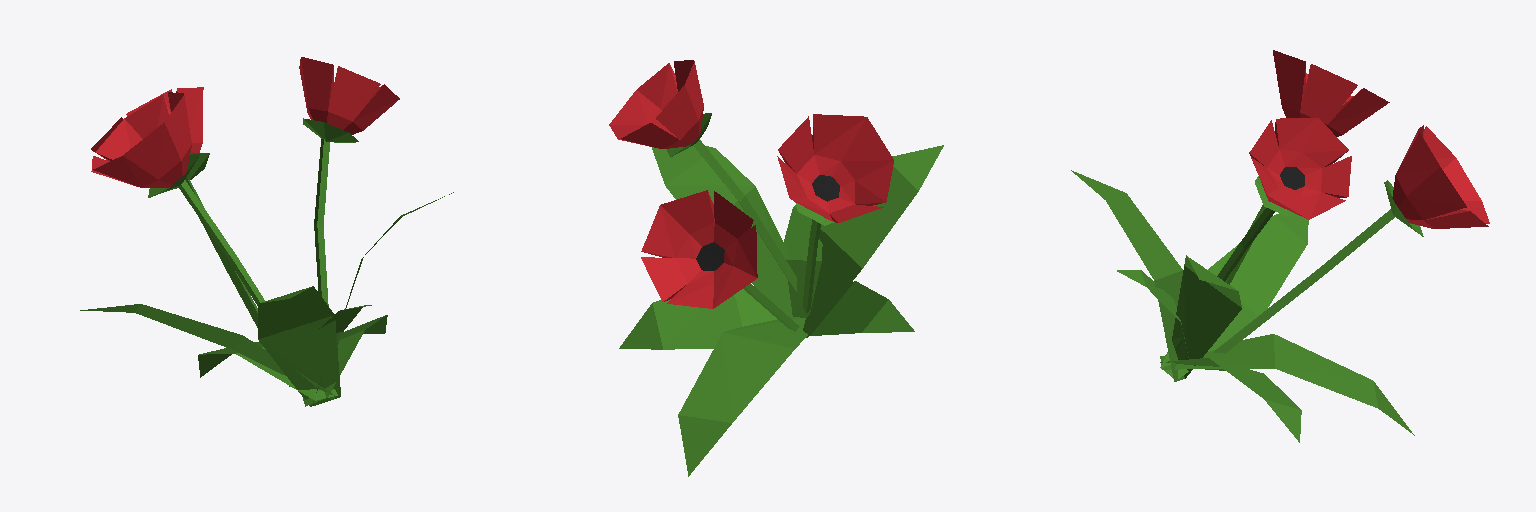
Rendered from carnations__7_.obj.
3 views of the same model, side by side, from view 1: azimuth 30°, elevation 25°; view 2: azimuth 150°, elevation 25°; view 3: azimuth 270°, elevation 25° (orthographic).
Visible parts, largest first — view 1: carnations__7__Scene.016; view 2: carnations__7__Scene.016; view 3: carnations__7__Scene.016.
Part boxes in pixels (x1,y1,x2,y2): carnations__7__Scene.016: (80,57,453,406); carnations__7__Scene.016: (609,60,943,476); carnations__7__Scene.016: (1071,50,1489,442).
Bounding box in the file's own units: 0.7997 × 0.8209 × 0.8972.